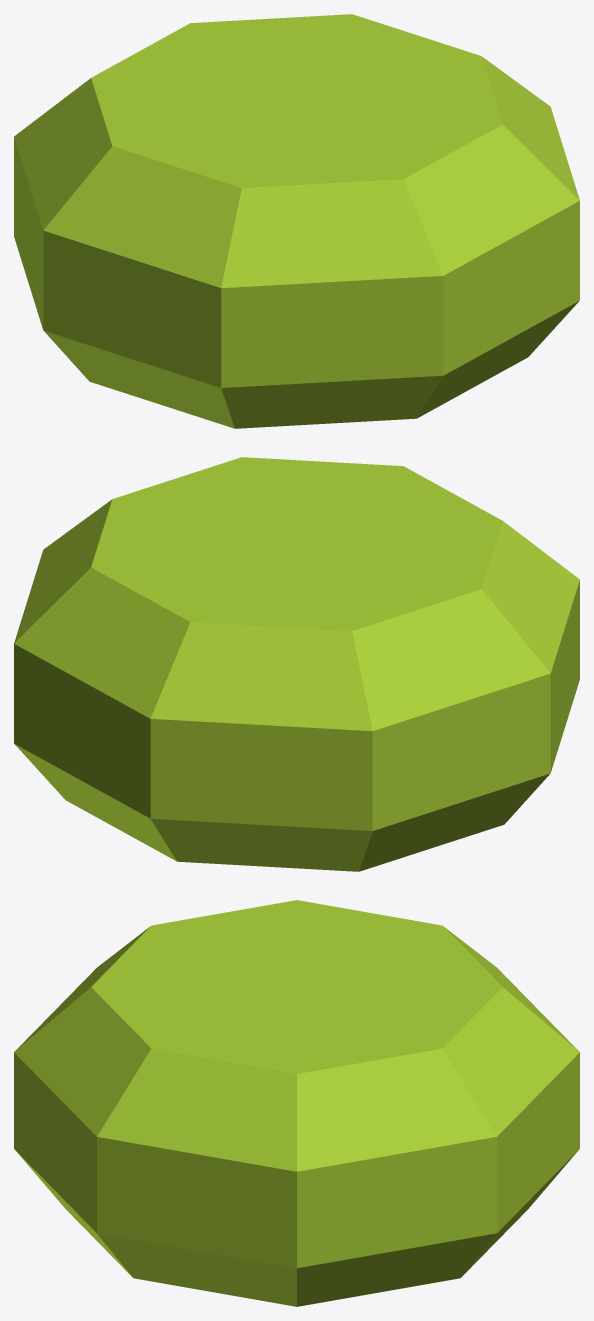
Rendered from Jem_08.fbx.
3 renders of one model, top to bottom at view 1: azimuth 30°, elevation 25°; view 2: azimuth 150°, elevation 25°; view 3: azimuth 270°, elevation 25°, orthographic. The views are drawn at different scales.
Visible parts, largest first — view 1: Jem_08; view 2: Jem_08; view 3: Jem_08.
Boxes of the visible parts, <box> form: Jem_08: <box>14,14,579,428</box>; Jem_08: <box>14,457,579,871</box>; Jem_08: <box>14,900,579,1306</box>.
Bounding box in the file's own units: 39.3 × 17.02 × 39.3.
